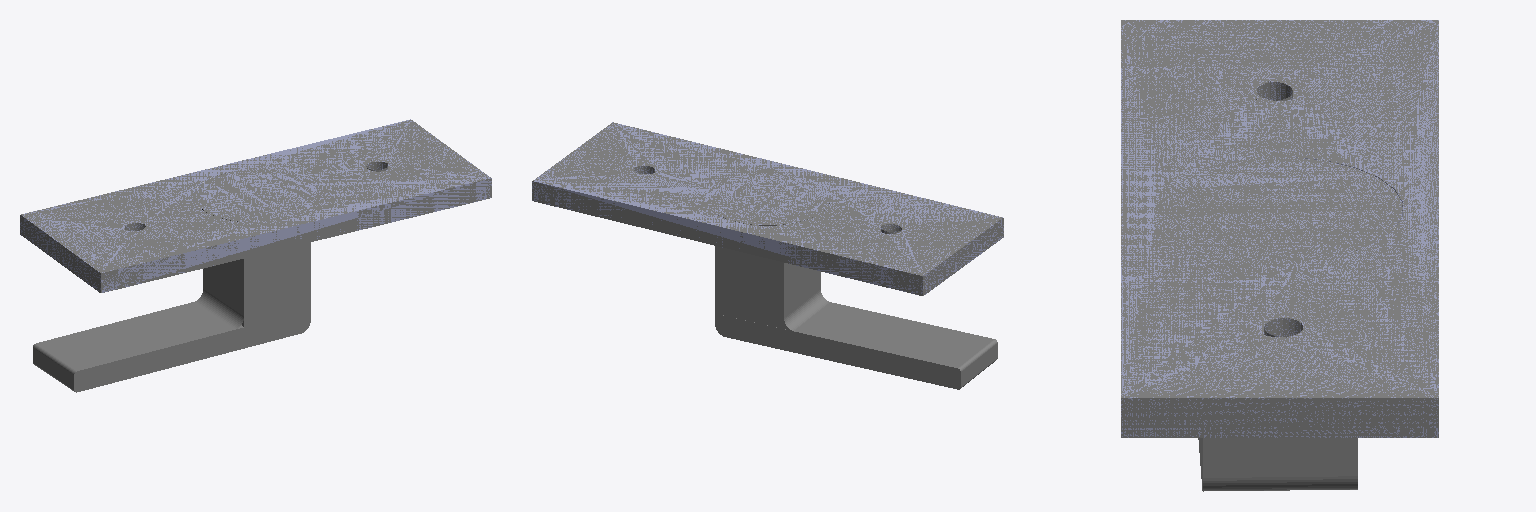
The robot description file, URDF, robot "window":
<?xml version="1.0" ?>
<robot name="window">
	<link name="base"/>
	<link name="link_0">
		<visual name="out-frame">
			<origin xyz="0 0 0"/>
			<geometry>
				<mesh filename="texture_dae/untitled.dae" scale="0.5 0.5 0.5"/>
			</geometry>
		</visual>
		<collision>
			<origin xyz="0 0 0"/>
			<geometry>
				<mesh filename="texture_dae/untitled.dae" scale="0.5 0.5 0.5"/>
			</geometry>
		</collision>
	</link>
	<joint name="joint_0" type="fixed">
		<origin rpy="1.570796326794897 0 -1.570796326794897" xyz="0 0 0"/>
		<child link="link_0"/>
		<parent link="base"/>
	</joint>
	<link name="link_1">
		<visual name="surf-board">
			<origin xyz="0.30546158315543975 -0.5833843402065071 0"/>
			<geometry>
				<mesh filename="texture_dae/untitled1.dae" scale="0.5 0.5 0.5"/>
			</geometry>
		</visual>
		<collision>
			<origin xyz="0.30546158315543975 -0.5833843402065071 0"/>
			<geometry>
				<mesh filename="texture_dae/untitled1.dae" scale="0.5 0.5 0.5"/>
			</geometry>
		</collision>
	</link>
	<joint name="joint_1" type="revolute">
		<origin xyz="-0.30546158315543975 0.5833843402065071 0"/>
		<axis xyz="0 -1 0"/>
		<child link="link_1"/>
		<parent link="link_0"/>
		<limit lower="0" upper="1.5079644737231006"/>
	</joint>
	<link name="link_2">
		<visual name="handle">
			<origin xyz="0 0 0"/>
			<geometry>
				<mesh filename="texture_dae/9969535-handle.dae" scale="0.15023376657296067 0.15023376657296067 0.15023376657296067"/>
			</geometry>
		</visual>
		<collision>
			<origin xyz="0 0 0"/>
			<geometry>
				<mesh filename="texture_dae/9969535-handle.dae" scale="0.15023376657296067 0.15023376657296067 0.15023376657296067"/>
			</geometry>
		</collision>
	</link>
	<joint name="joint_2" type="revolute">
		<origin xyz="0 0 0"/>
		<child link="link_2"/>
		<parent link="link_3"/>
		<axis xyz="0 0 1"/>
		<limit lower="0" upper="1.5079644737231006"/>
	</joint>
	<link name="link_3">
		<visual name="lock">
			<origin xyz="0 0 0"/>
			<geometry>
				<mesh filename="texture_dae/9969535-lock.dae" scale="0.15023376657296067 0.15023376657296067 0.15023376657296067"/>
			</geometry>
		</visual>
		<collision>
			<origin xyz="0 0 0"/>
			<geometry>
				<mesh filename="texture_dae/9969535-lock.dae" scale="0.15023376657296067 0.15023376657296067 0.15023376657296067"/>
			</geometry>
		</collision>
	</link>
	<joint name="joint_3" type="fixed">
		<origin xyz="0.57960002006893 -0.5833843402065071 0.028971898873196622"/>
		<child link="link_3"/>
		<parent link="link_1"/>
	</joint>
</robot>

--- What the picture shows (computed from the rendered views, not written in the file) ---
The picture shows the robot from 3 angles, left to right: view 1: azimuth 30°, elevation 25°; view 2: azimuth 150°, elevation 25°; view 3: azimuth 270°, elevation 25°; orthographic projection.
Robot: window — 5 links, 4 joints (2 revolute, 2 fixed); root link base; default pose: all joints at 0.
Links seen in each view (by area): view 1: link_3, link_2; view 2: link_3, link_2; view 3: link_3, link_2.
Boxes of the visible links, x1=… form: link_3: x1=20, y1=119, x2=491, y2=292; link_2: x1=33, y1=210, x2=310, y2=392; link_3: x1=532, y1=122, x2=1003, y2=295; link_2: x1=715, y1=217, x2=997, y2=389; link_3: x1=1121, y1=20, x2=1438, y2=437; link_2: x1=1198, y1=250, x2=1357, y2=491.
Size in the robot's own frame: 0.2486 by 0.0858 by 0.0762 metres.
Meshes: 4 distinct files referenced, 2 mesh visuals loaded (2 Collada DAE); not drawn: 2 (reference not matched to a file when rendering).
